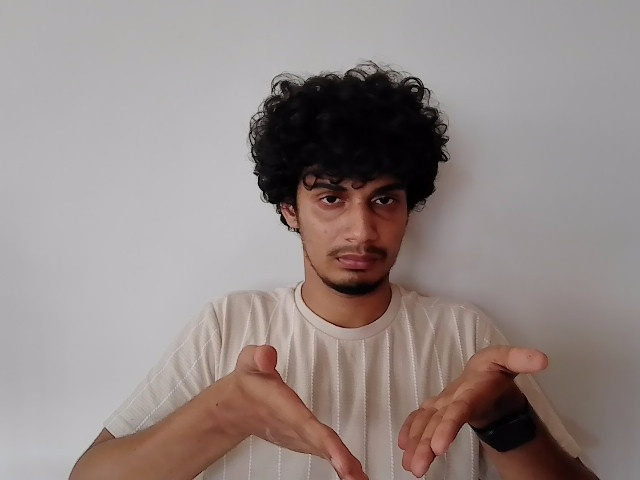here: (239, 344, 550, 477)
